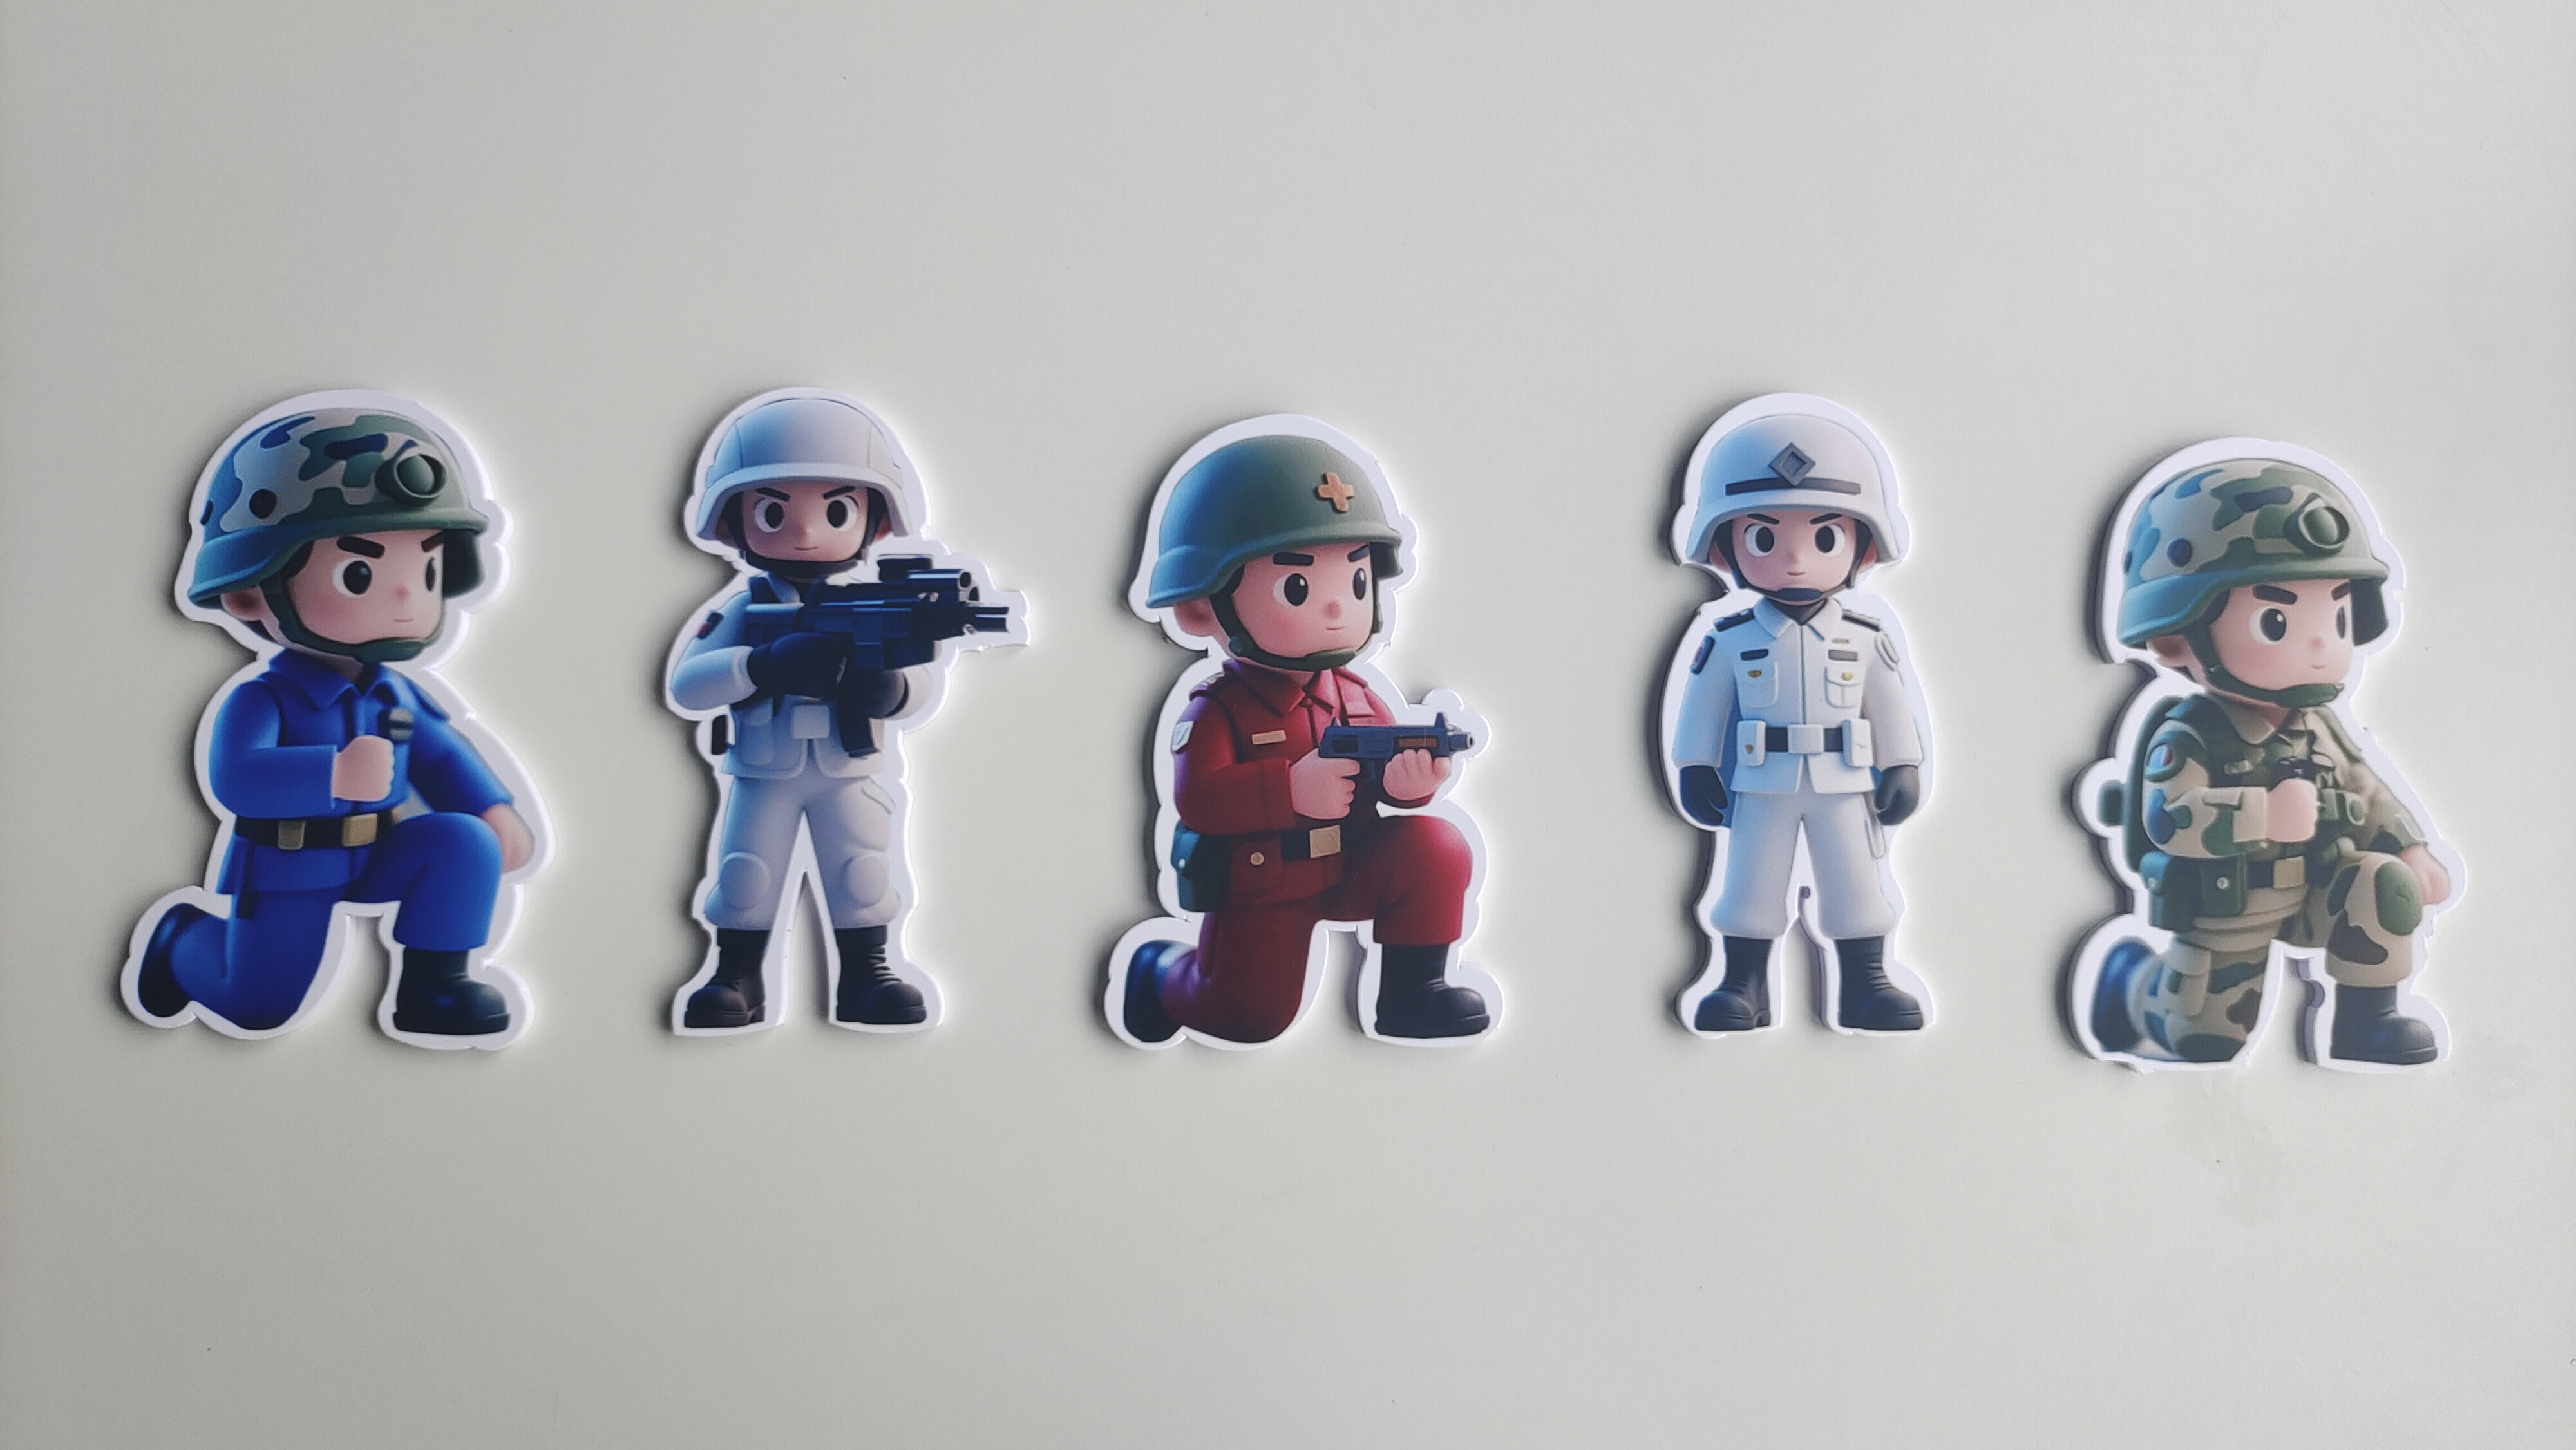enemy1: (1090, 663, 1518, 1054)
enemy2: (92, 663, 559, 1065)
friend: (2049, 683, 2479, 1073)
hostage: (637, 573, 961, 1057), (1651, 592, 1951, 1034)
